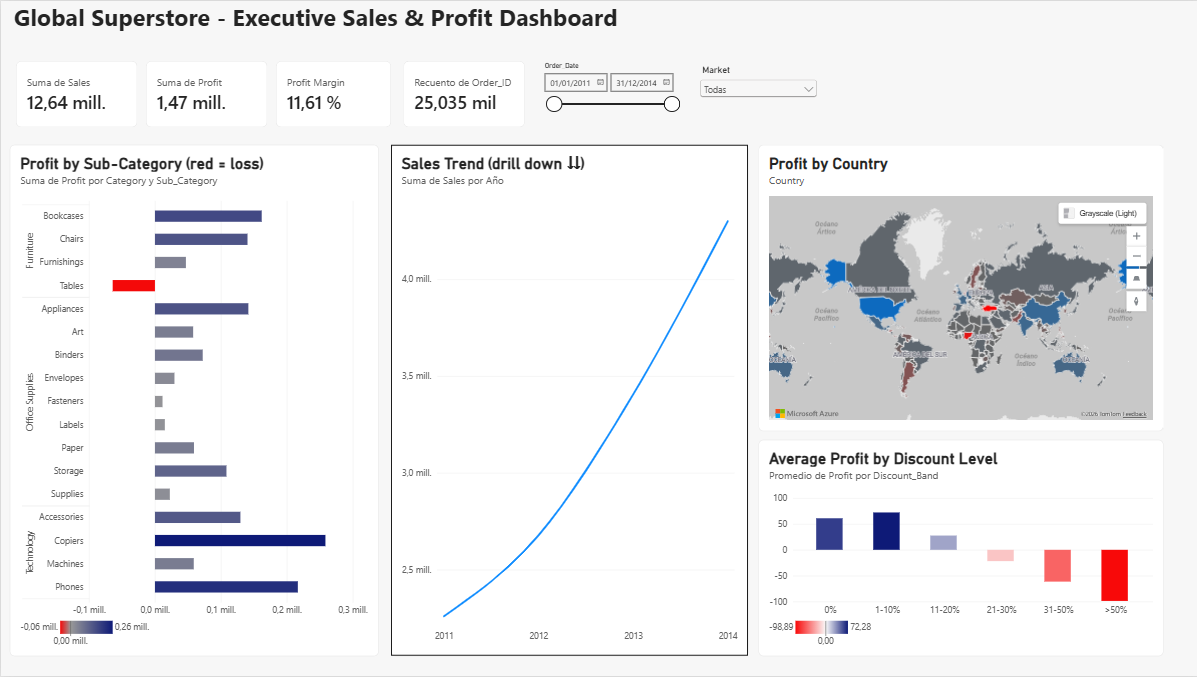

This screenshot's page, from the dashboard's own definition file:
{"tool":"powerbi","page":{"name":"Página 1","canvas":[1920,1080],"ordinal":0},"visuals":[{"type":"cardVisual","title":"Suma de Sales","fields":{"Data":["Sum(superstore_clean.Sales)"]},"box":[24,96,194,106],"z":0},{"type":"cardVisual","fields":{"Data":["Sum(superstore_clean.Profit)"]},"box":[232,96,194,106],"z":1000},{"type":"cardVisual","fields":{"Data":["Count(superstore_clean.Order_ID)"]},"box":[644,96,194,106],"z":2000},{"type":"cardVisual","fields":{"Data":["superstore_clean.Profit Margin"]},"box":[440,96,184,106],"z":3000},{"type":"clusteredBarChart","title":"Profit by Sub-Category (red = loss)","fields":{"Category":["superstore_clean.Category","superstore_clean.Sub_Category"],"Y":["Sum(superstore_clean.Profit)"]},"box":[14,230,590,818],"z":4000},{"type":"lineChart","title":"Sales Trend (drill down ⇊)","fields":{"Category":["superstore_clean.Order_Date.Variation.Jerarquía de fechas.Año","superstore_clean.Order_Date.Variation.Jerarquía de fechas.Trimestre","superstore_clean.Order_Date.Variation.Jerarquía de fechas.Mes","superstore_clean.Order_Date.Variation.Jerarquía de fechas.Día"],"Y":["Sum(superstore_clean.Sales)"]},"box":[624,230,572,818],"z":5000},{"type":"azureMap","title":"Profit by Country","fields":{"Category":["superstore_clean.Country"]},"box":[1212,230,648,458],"z":6000},{"type":"clusteredColumnChart","title":"Average Profit by Discount Level","fields":{"Category":["superstore_clean.Discount_Band"],"Y":["Avg(superstore_clean.Profit)"]},"box":[1212,702,648,346],"z":7000},{"type":"slicer","fields":{"Values":["superstore_clean.Order_Date"]},"box":[862,96,228,106],"z":8000},{"type":"slicer","fields":{"Values":["superstore_clean.Market"]},"box":[1114,102,196,100],"z":9000},{"type":"textbox","box":[0,0,1032,82],"z":9001}]}

Visuals, with their boxes in screenshot pixels (x1, y1, x2, y2), scaled from the page's 1920x1080 canvas onto the 1197x677 screenshot:
"Suma de Sales" cardVisual: (left=15, top=60, right=136, bottom=127)
cardVisual - Sum(superstore_clean.Profit): (left=145, top=60, right=266, bottom=127)
cardVisual - Count(superstore_clean.Order_ID): (left=401, top=60, right=522, bottom=127)
cardVisual - superstore_clean.Profit Margin: (left=274, top=60, right=389, bottom=127)
"Profit by Sub-Category (red = loss)" clusteredBarChart: (left=9, top=144, right=377, bottom=657)
"Sales Trend (drill down ⇊)" lineChart: (left=389, top=144, right=746, bottom=657)
"Profit by Country" azureMap: (left=756, top=144, right=1160, bottom=431)
"Average Profit by Discount Level" clusteredColumnChart: (left=756, top=440, right=1160, bottom=657)
slicer - superstore_clean.Order_Date: (left=537, top=60, right=680, bottom=127)
slicer - superstore_clean.Market: (left=695, top=64, right=817, bottom=127)
textbox: (left=0, top=0, right=643, bottom=51)
